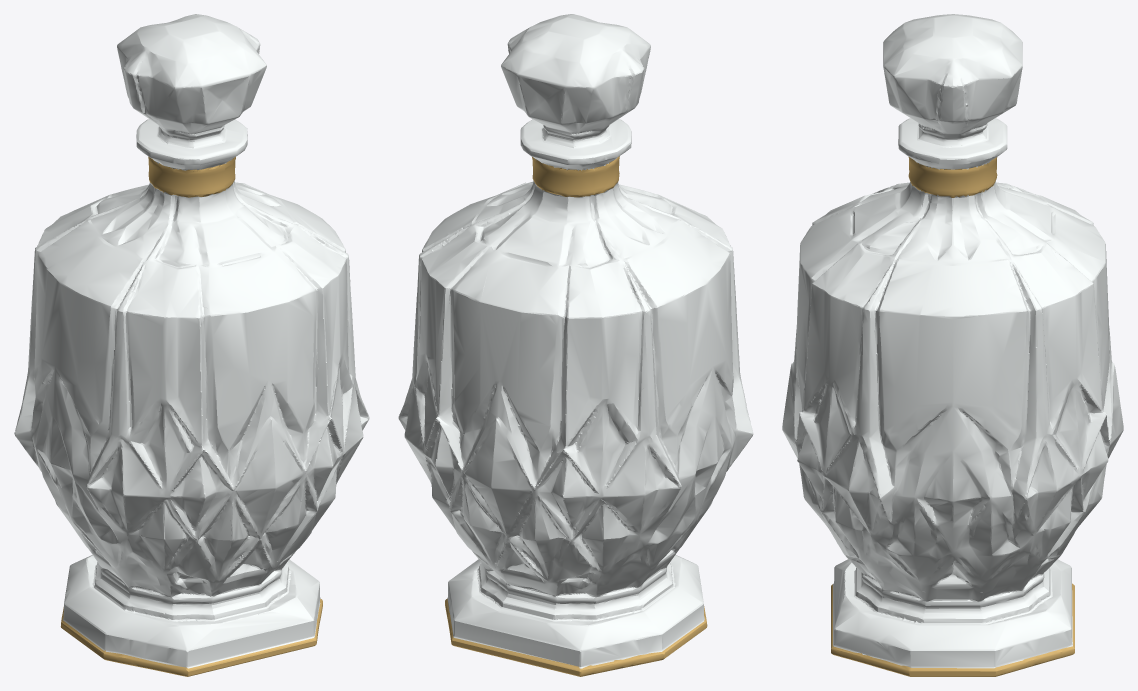
File: cut-crystal-decanter-qa-v2.glb
3 renders of one model, left to right at view 1: azimuth 30°, elevation 25°; view 2: azimuth 150°, elevation 25°; view 3: azimuth 270°, elevation 25°, orthographic.
Visible parts, largest first — view 1: decanter_cut_body, decanter_cut, decanter_cut_stopper; view 2: decanter_cut_body, decanter_cut, decanter_cut_stopper; view 3: decanter_cut_body, decanter_cut, decanter_cut_stopper.
Boxes of the visible parts, box(x1,y1,x2,y2) form: decanter_cut_body: box(14, 119, 369, 676); decanter_cut: box(16, 14, 368, 676); decanter_cut_stopper: box(117, 14, 266, 146); decanter_cut_body: box(398, 119, 753, 676); decanter_cut: box(399, 14, 752, 675); decanter_cut_stopper: box(501, 14, 650, 146); decanter_cut_body: box(782, 118, 1123, 676); decanter_cut: box(782, 16, 1123, 675); decanter_cut_stopper: box(883, 14, 1022, 145).
Bounding box in the file's own units: 0.2609 × 0.5199 × 0.2691.
